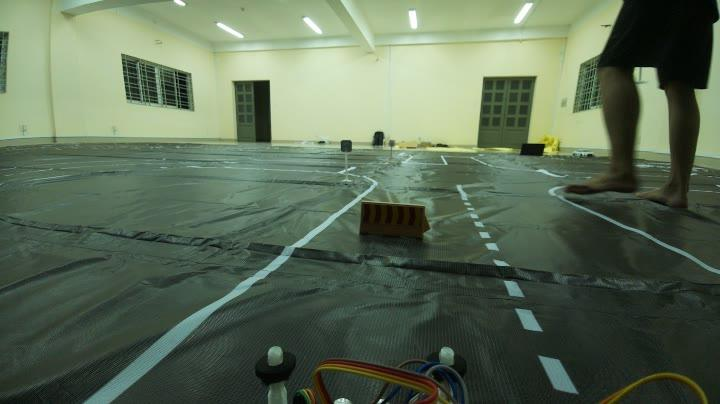roadblock: (346, 190, 439, 252)
